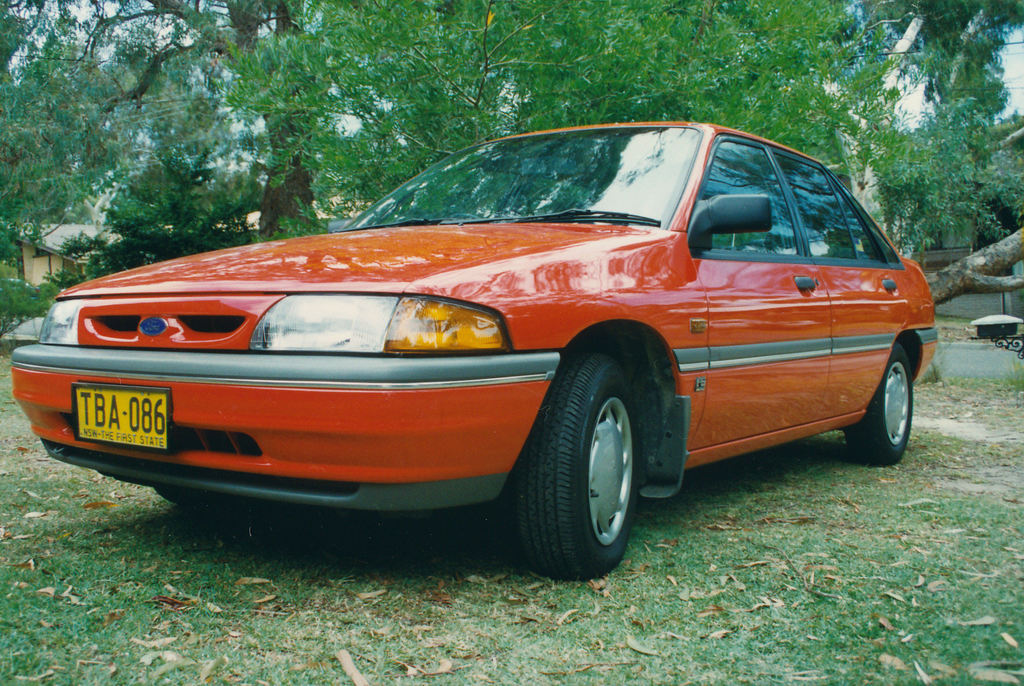Car: (8, 123, 938, 583)
